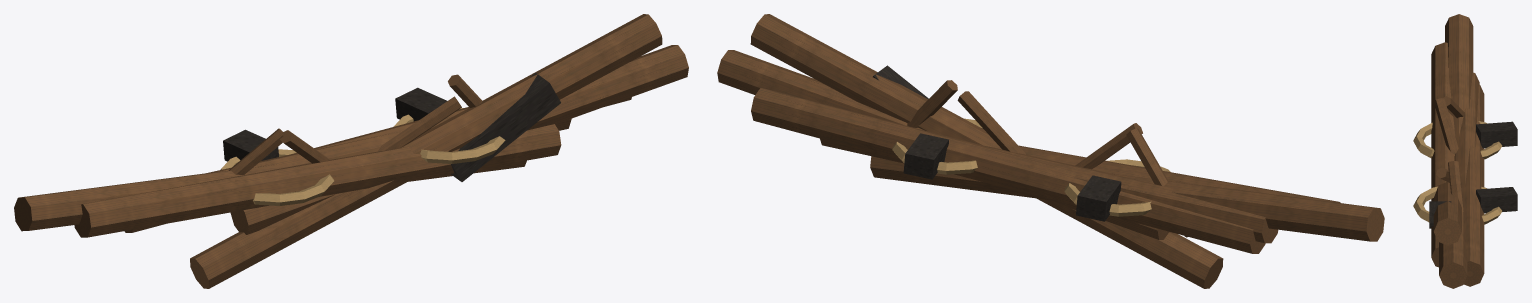
File: pr-003_wood_poles_bundle__damaged.obj
3 views of the same model, side by side, from view 1: azimuth 30°, elevation 25°; view 2: azimuth 150°, elevation 25°; view 3: azimuth 270°, elevation 25° (orthographic). The views are drawn at different scales.
Parts seen in each view (by area): view 1: pr-003_wood_poles_bundle__damaged; view 2: pr-003_wood_poles_bundle__damaged; view 3: pr-003_wood_poles_bundle__damaged.
Part boxes in pixels (x1,y1,x2,y2): pr-003_wood_poles_bundle__damaged: (14, 14, 688, 288); pr-003_wood_poles_bundle__damaged: (717, 14, 1384, 288); pr-003_wood_poles_bundle__damaged: (1413, 14, 1517, 288).
Size of the model in its own units: 1.87 by 0.4504 by 0.3325.
Materials: 3 (3 with a texture image).
